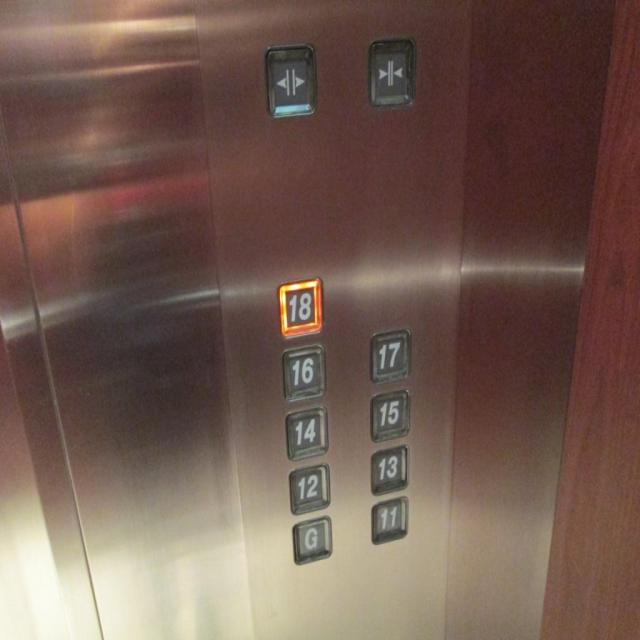11: (369, 494, 408, 546)
12: (286, 459, 330, 514)
13: (369, 442, 409, 497)
14: (283, 404, 328, 461)
15: (369, 387, 409, 443)
16: (280, 343, 326, 402)
17: (368, 329, 410, 384)
18: (277, 278, 324, 336)
G: (290, 513, 332, 565)
close: (364, 35, 415, 108)
open: (263, 43, 315, 119)
